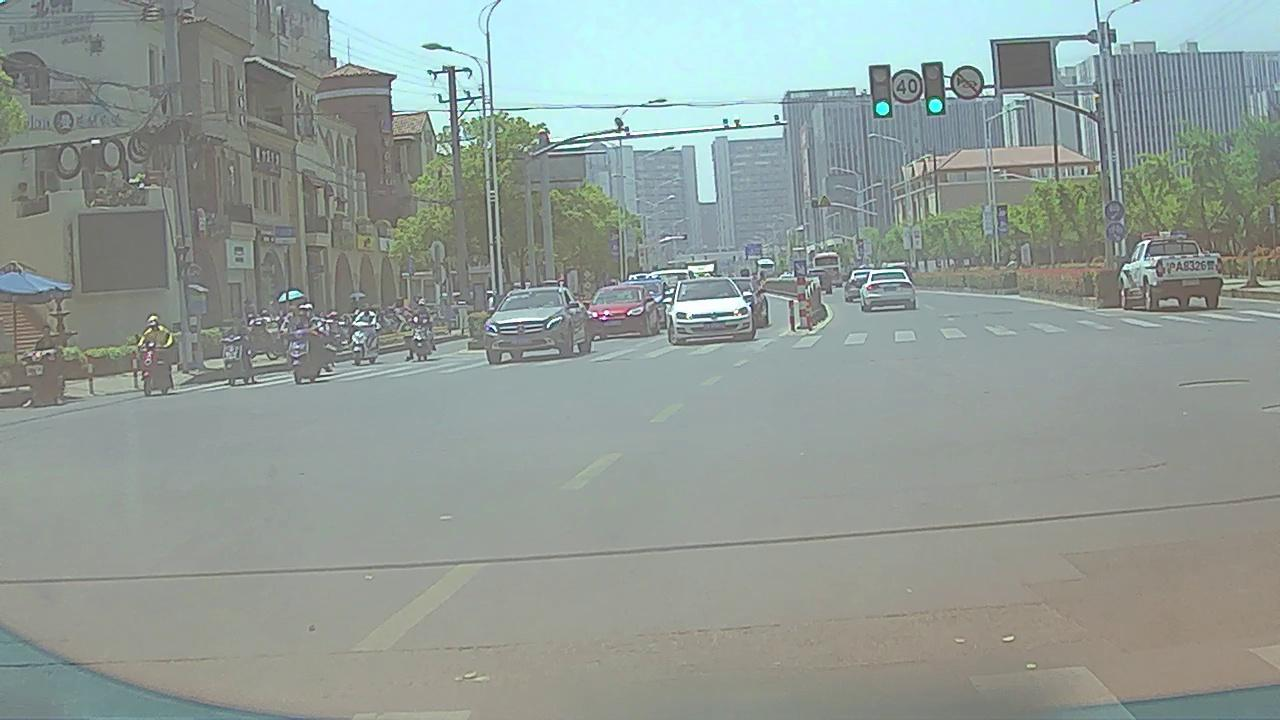traffic_light: (871, 67, 891, 116), (925, 63, 944, 114)
